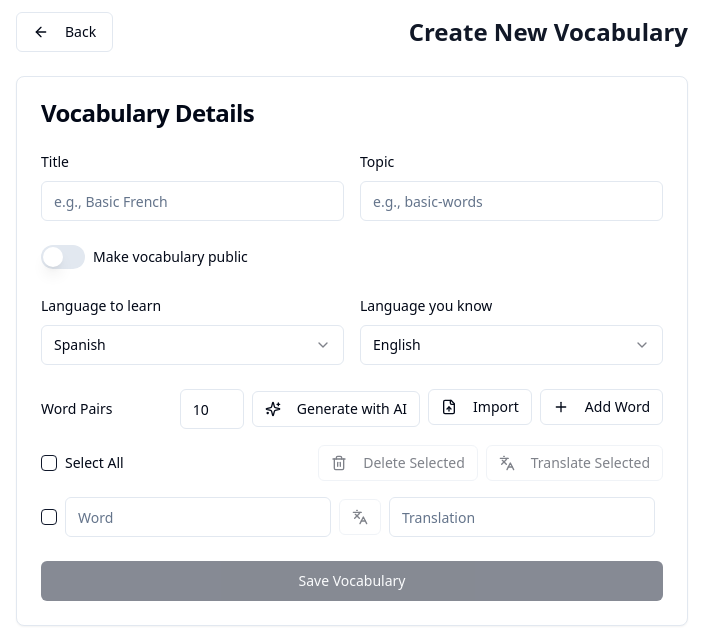
Scenario: CreateVocabulary Component › Word Translation › translate button is disabled if word is empty or languages not selected
This screenshot has width=705, height=643.
Expected: the button with test id "translate-word-0" is disabled, [339, 499, 381, 535]
// Test with word filled, but let's assume languages are not selected (though defaults usually are)
Type "FilledWord" into the field with placeholder "Word" at (198, 517), box [65, 497, 331, 537]
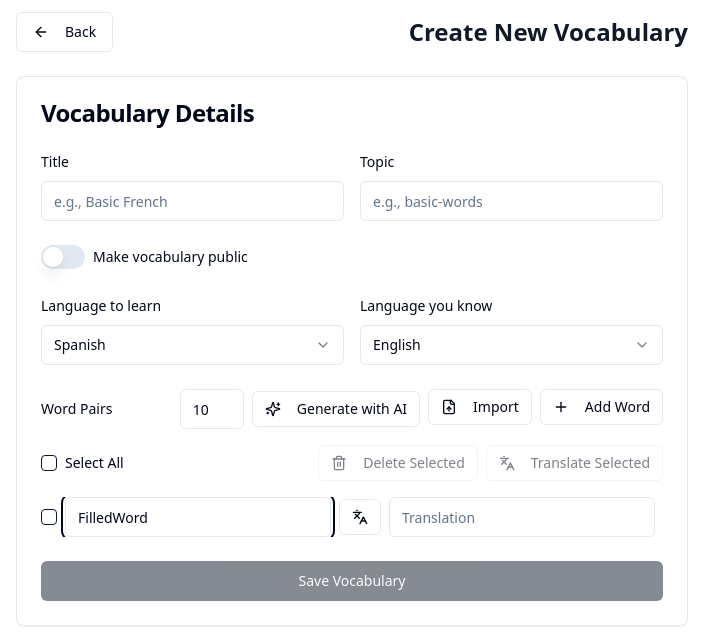
// Reset to a state where word is empty.
Clear the field with placeholder "Word" at (198, 517), box [65, 497, 331, 537]
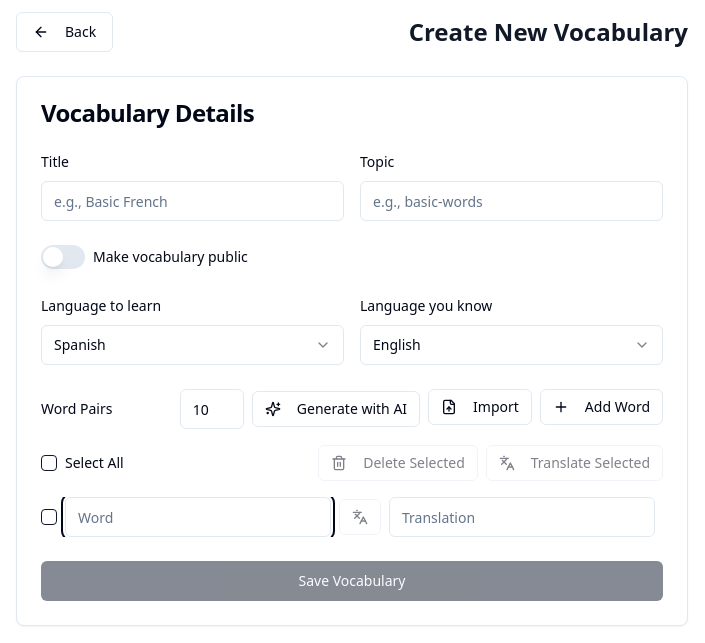
Now the button with test id "translate-word-0" is disabled, box [339, 499, 381, 535]
Type "test" into the field with placeholder "Word" at (198, 517), box [65, 497, 331, 537]
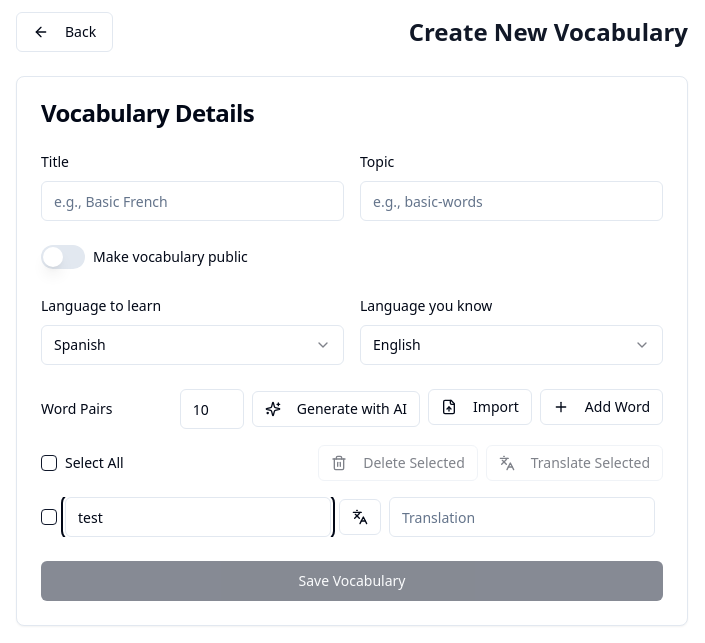
Now the button with test id "translate-word-0" is enabled, box [339, 499, 381, 535]
